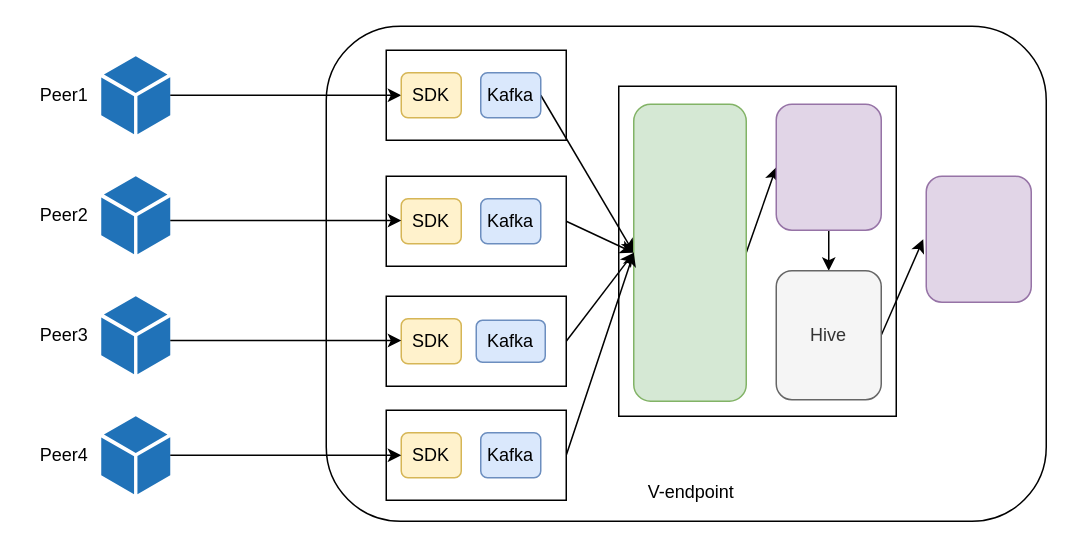
Some shapes in this 1073 by 548 pixel diagram are drawn without their labels. The centre of each missing label's shape, as x and y in pixels:
"BFT consensus" goes at (828,166).
"Endponint Server" goes at (978,238).
"Spark" goes at (689,252).
